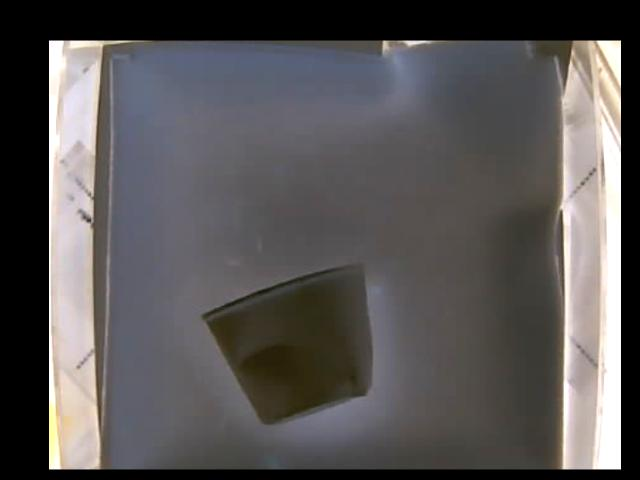Cup: (200, 258, 375, 422)
